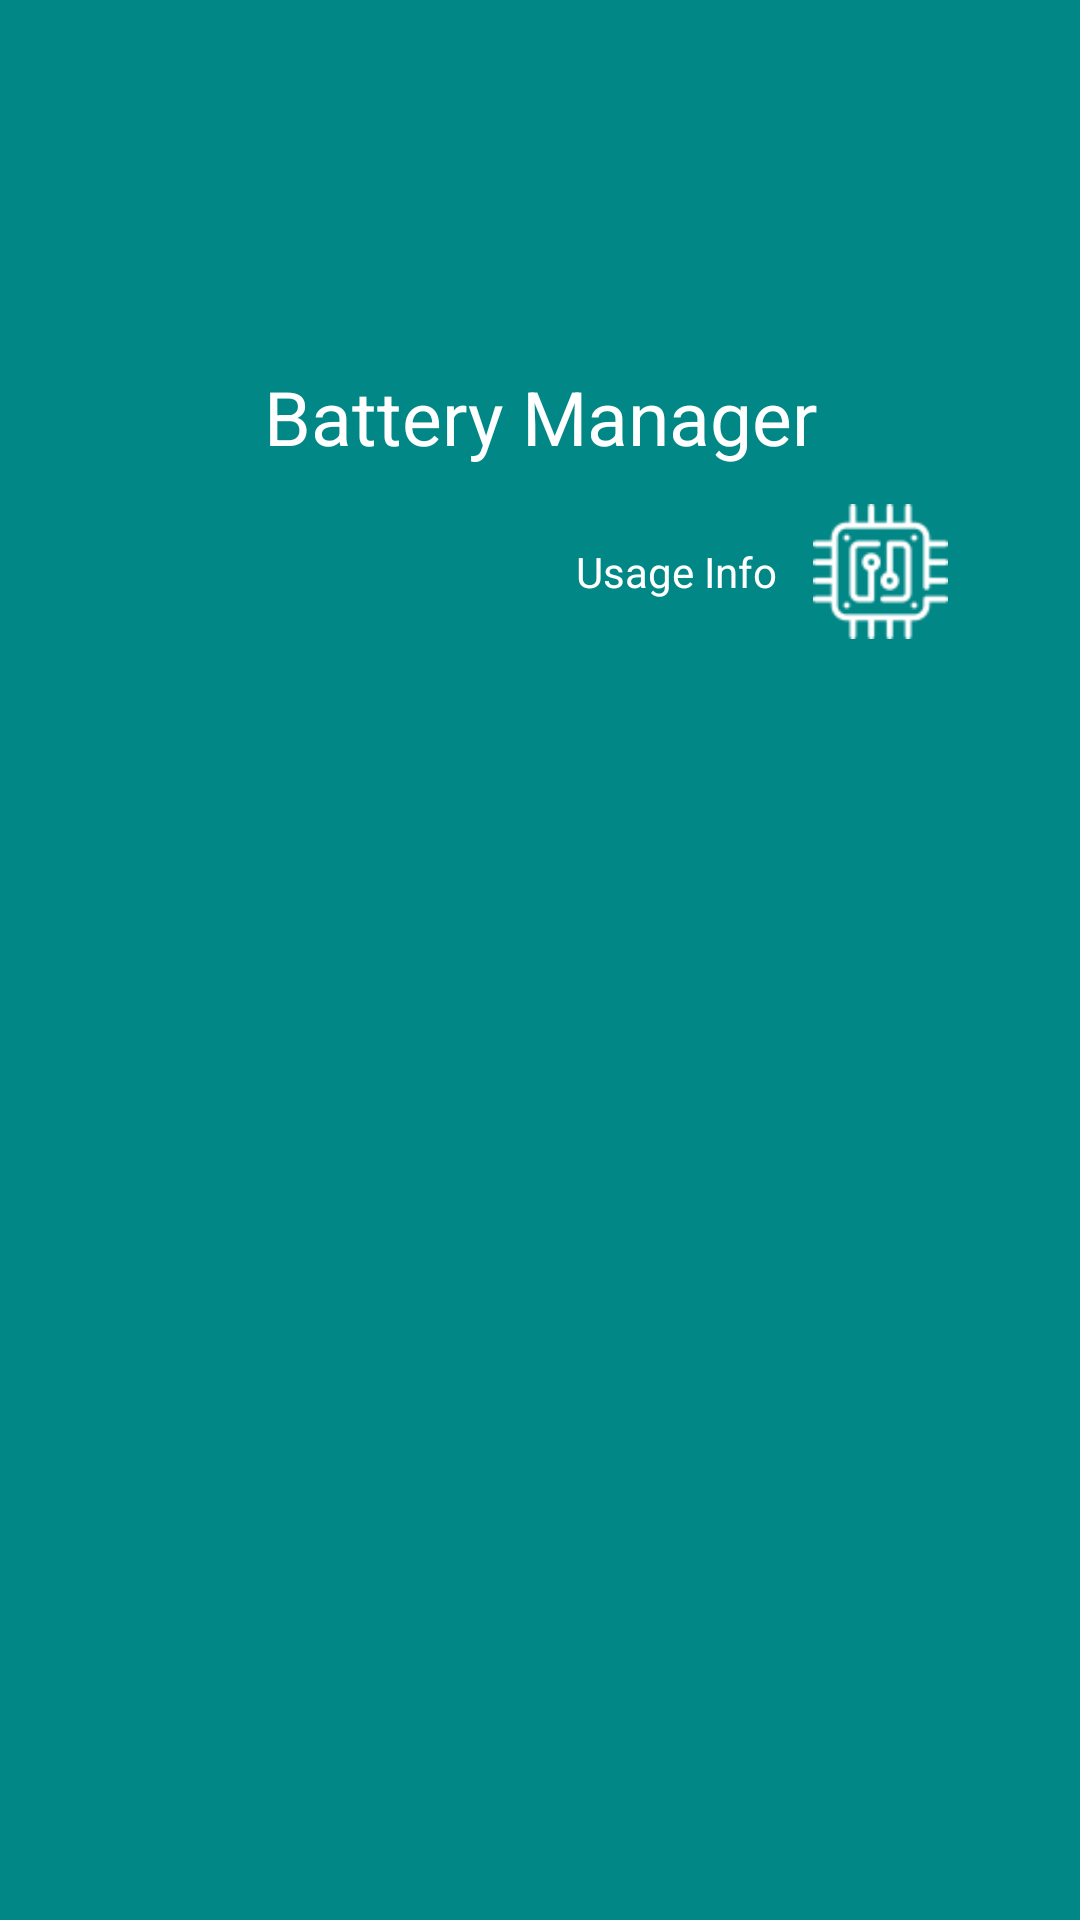

Screen size 1080x1920. Icon name, then its box in pixels as (x1, y1, x2, y2):
cpu: (813, 504, 948, 639)
